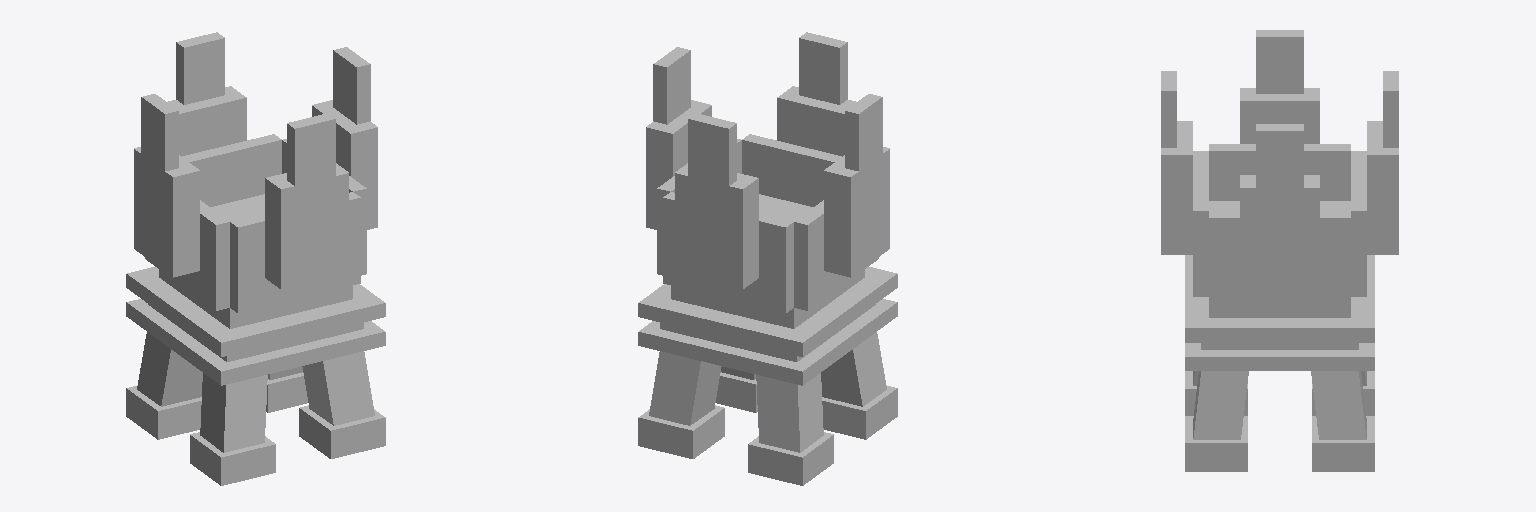
Rendered from BlockDemonCrucible.obj.
The picture shows the model from 3 angles: view 1: azimuth 30°, elevation 25°; view 2: azimuth 150°, elevation 25°; view 3: azimuth 270°, elevation 25°; orthographic projection.
Parts seen in each view (by area): view 1: BlockDemonCrucible; view 2: BlockDemonCrucible; view 3: BlockDemonCrucible.
Boxes of the visible parts, <box> form: BlockDemonCrucible: <box>126,32,385,485</box>; BlockDemonCrucible: <box>638,32,897,485</box>; BlockDemonCrucible: <box>1161,30,1398,471</box>.
Bounding box in the file's own units: 0.9375 × 1.53 × 0.9375.